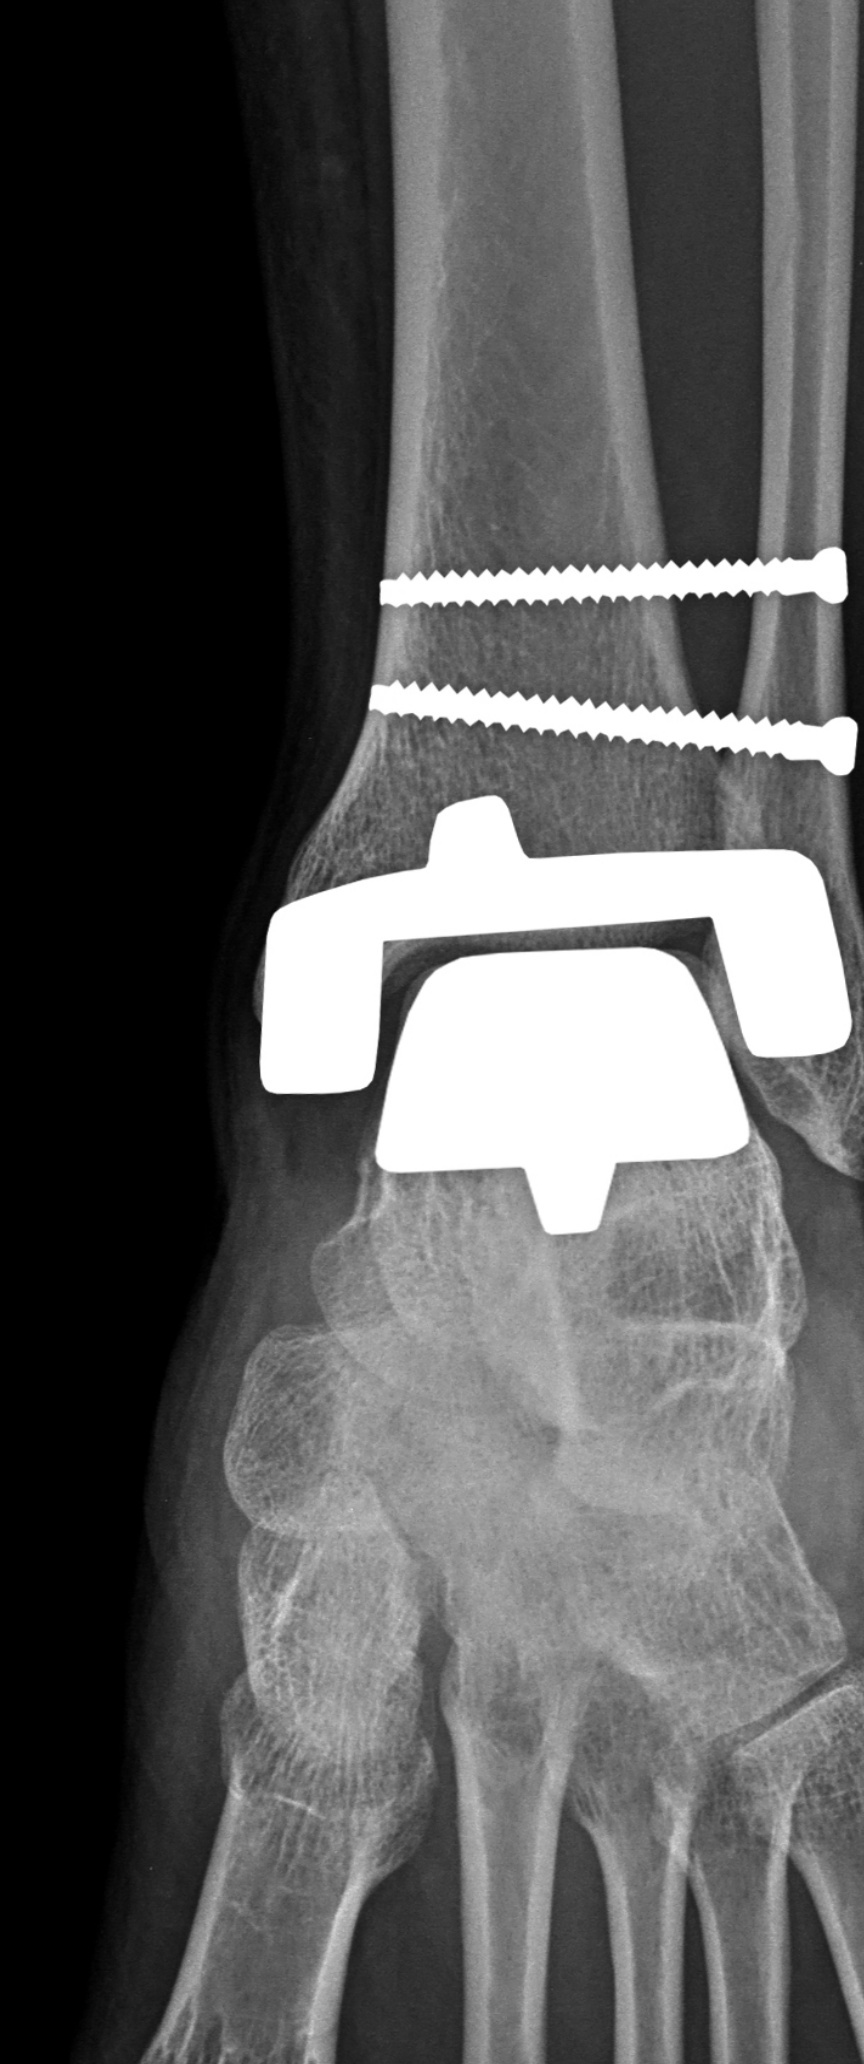Ankle - Agility - DePuy: (248, 519, 864, 1248)
